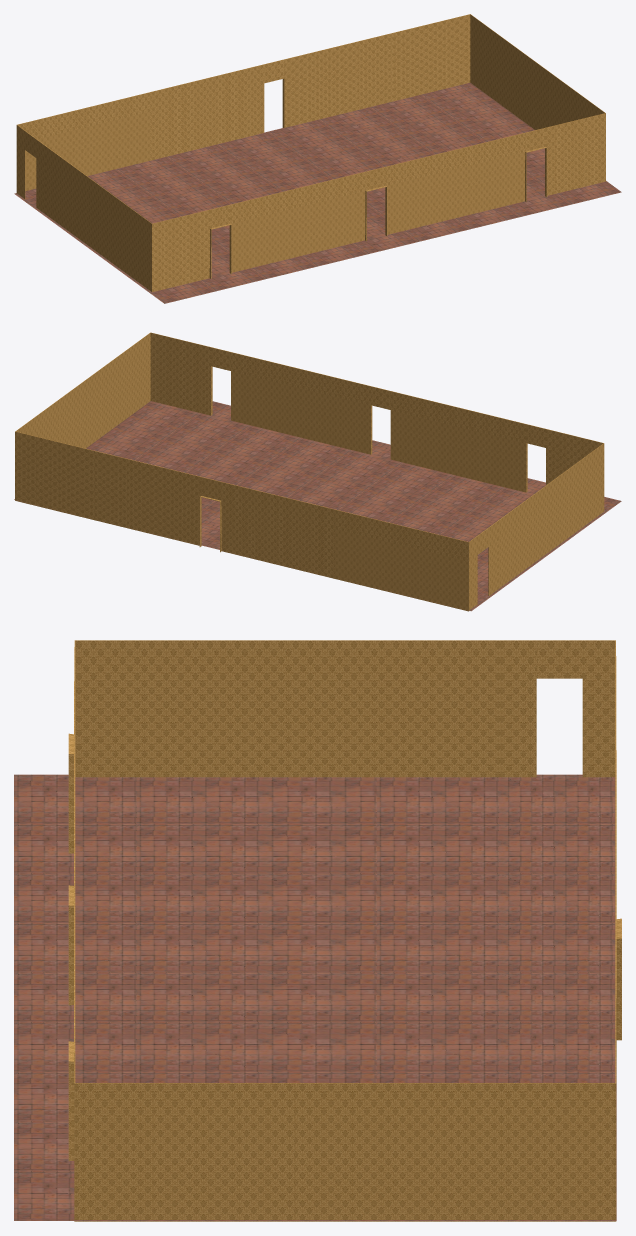
Rendered from Room_Shop.fbx.
3 renders of one model, top to bottom at view 1: azimuth 30°, elevation 25°; view 2: azimuth 150°, elevation 25°; view 3: azimuth 270°, elevation 25°, orthographic. The views are drawn at different scales.
Visible parts, largest first — view 1: Walls, Plane.003; view 2: Walls, Plane.003; view 3: Plane.003, Walls.
Part boxes in pixels (x1,y1,x2,y2): Walls: (16, 14, 605, 291); Plane.003: (14, 82, 621, 303); Walls: (15, 332, 604, 611); Plane.003: (14, 401, 621, 611); Plane.003: (14, 774, 616, 1220); Walls: (68, 640, 621, 1221).
Size of the model in its own units: 2925 by 423 by 1683.
2 materials, 2 textured.
